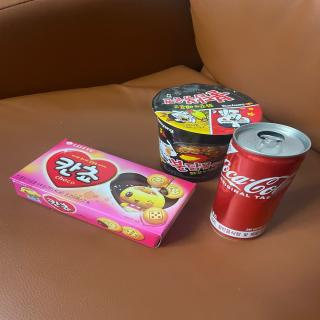cocacola: (201, 119, 317, 245)
